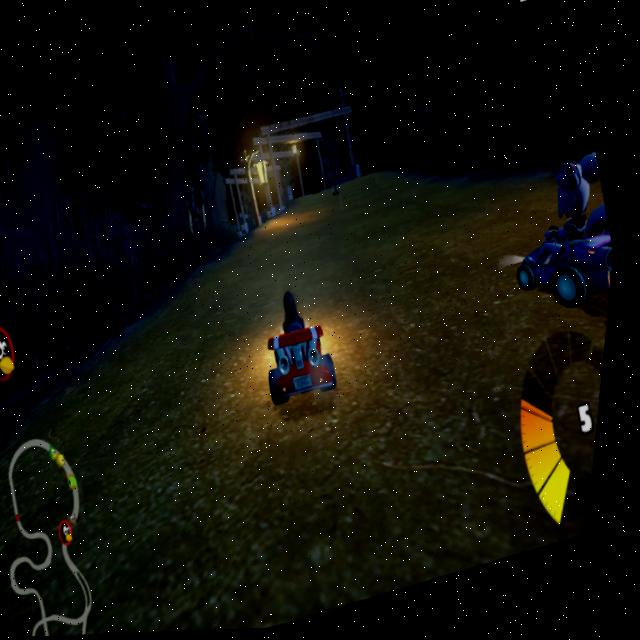enemy_kart: (494, 158, 627, 340), (329, 178, 354, 204)
player_kart: (252, 279, 362, 423)
track: (260, 175, 452, 298)
